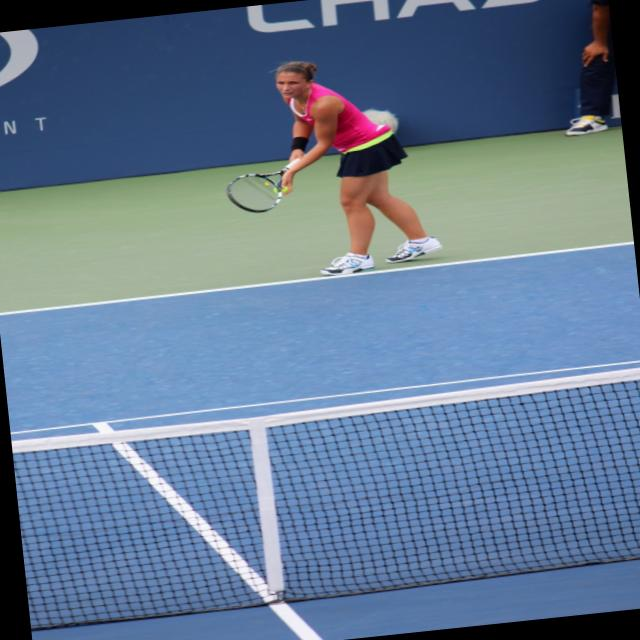Tennis Ball: (273, 184, 288, 194)
